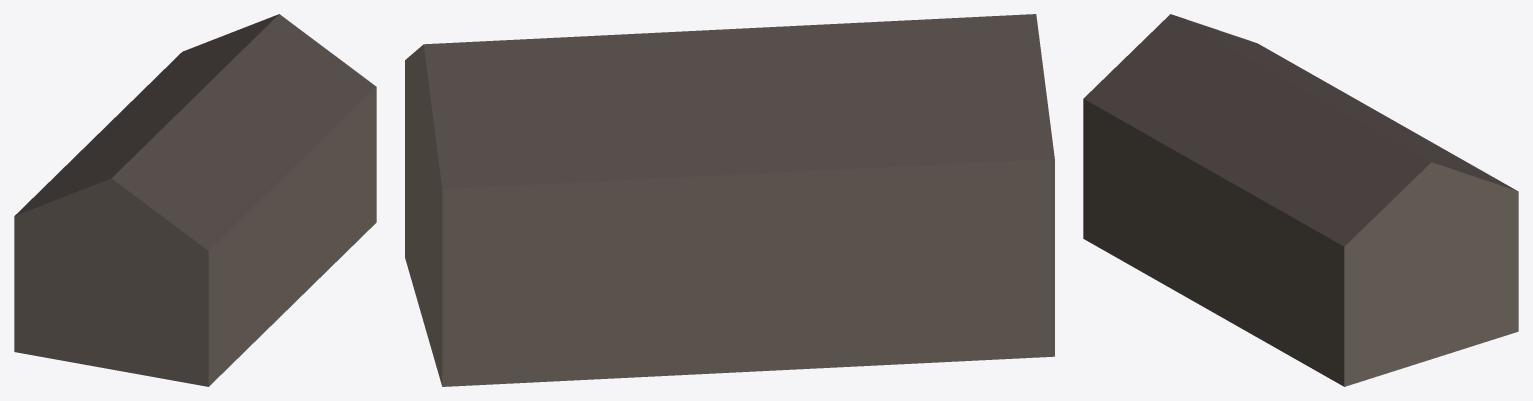
3 views of the same model, side by side, from view 1: azimuth 30°, elevation 25°; view 2: azimuth 150°, elevation 25°; view 3: azimuth 270°, elevation 25° (orthographic). The views are drawn at different scales.
Parts seen in each view (by area): view 1: HP-w178737602; view 2: HP-w178737602; view 3: HP-w178737602.
Part boxes in pixels (<box>): HP-w178737602: <box>14,14,376,386</box>; HP-w178737602: <box>405,14,1054,386</box>; HP-w178737602: <box>1083,14,1518,386</box>.
Size of the model in its own units: 18.68 by 8.44 by 16.87.
